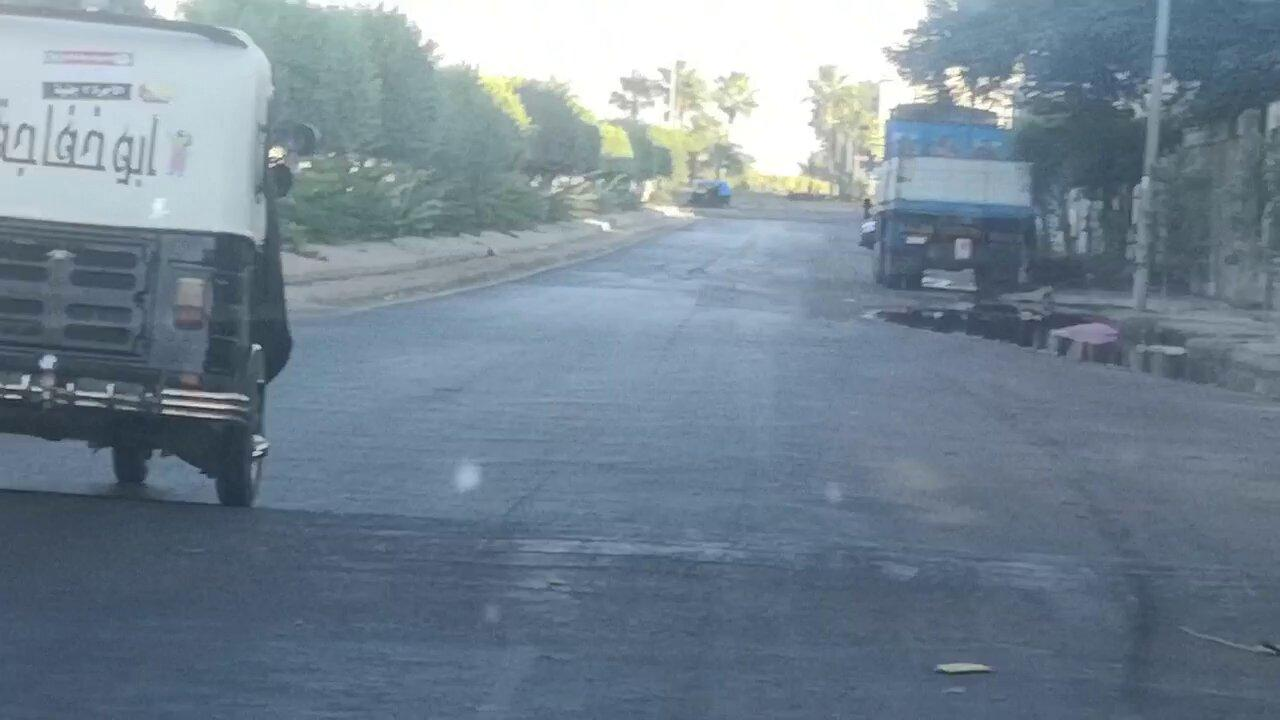Bump: (8, 486, 1280, 663)
